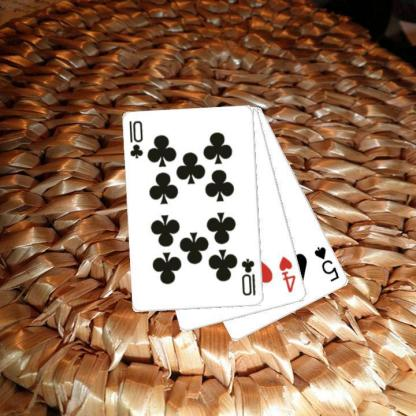10C: (239, 256, 257, 298), (127, 118, 144, 160)
4H: (276, 254, 298, 294)
5S: (312, 244, 341, 283)
